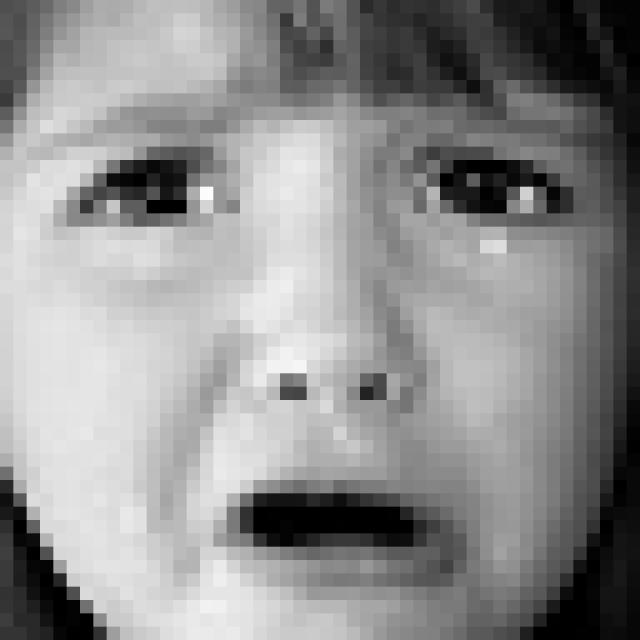sad: (51, 96, 611, 603)
